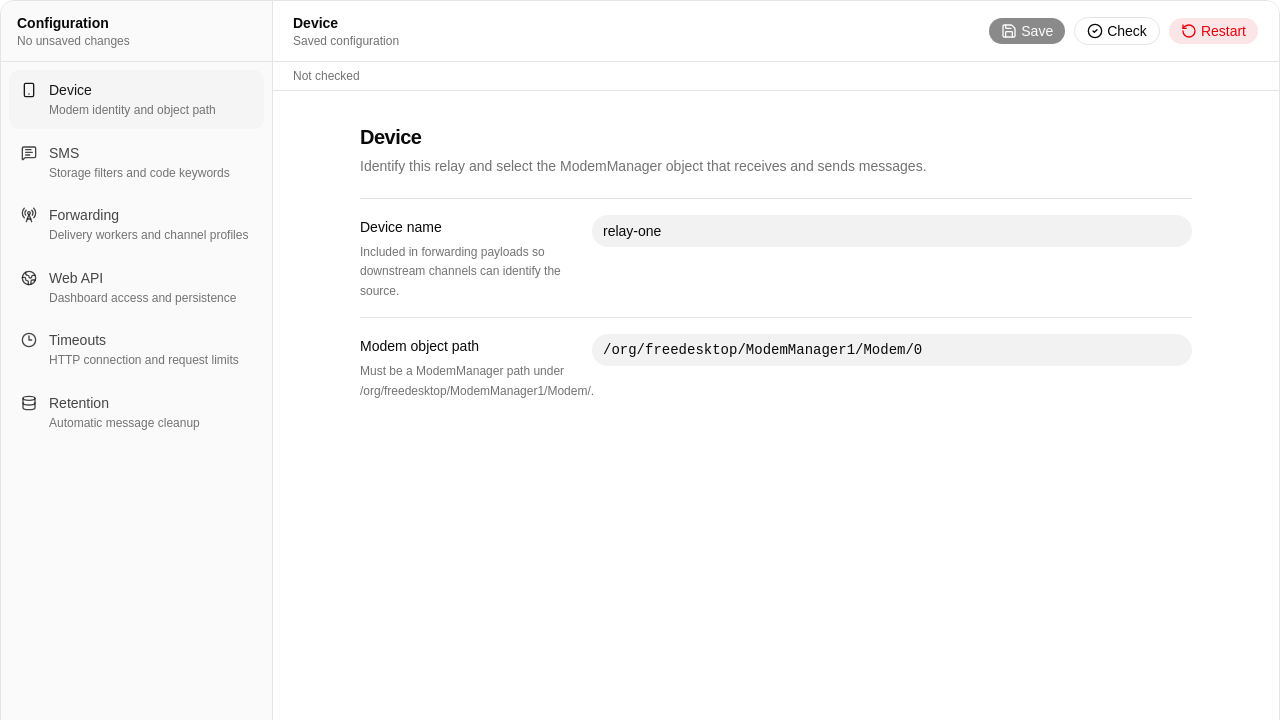
Test: ConfigEditor workspace › preserves one draft across categories and submits the complete candidate
Replace the text in the field labelled "Device name" with "relay-two" at point(892, 231), box x1=592 y1=215 x2=1192 y2=247
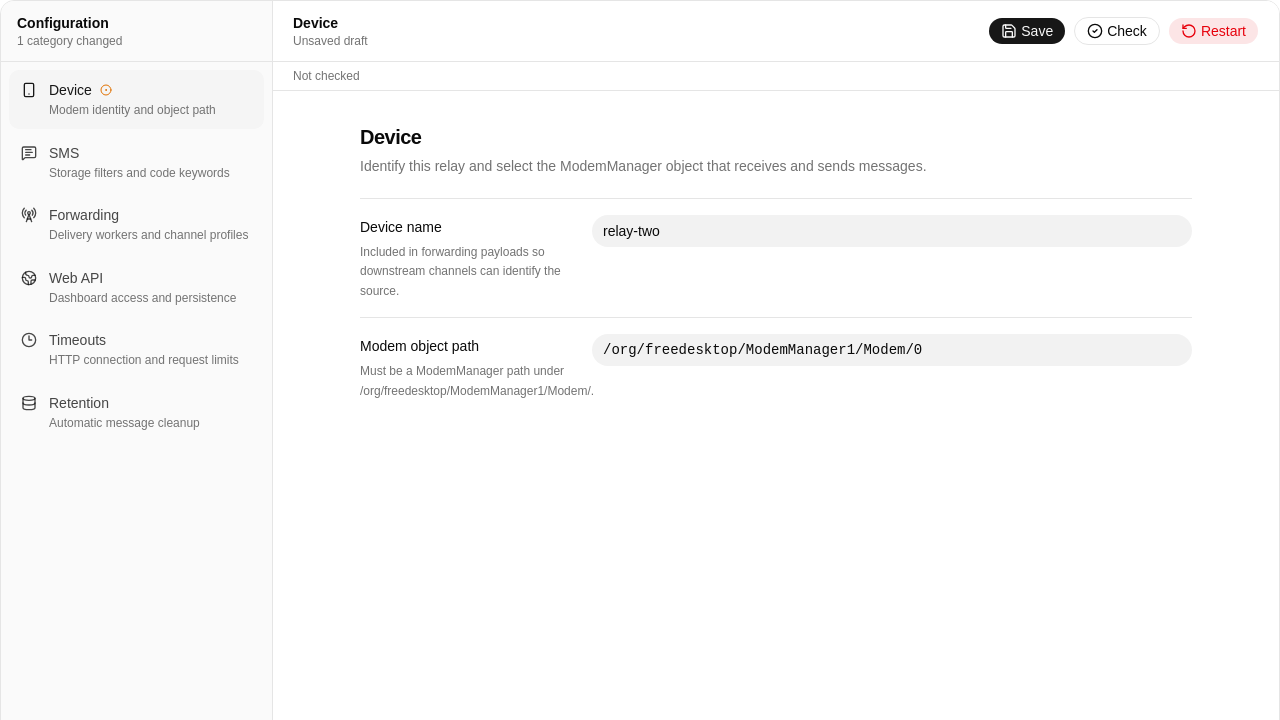
Click the button "SMS Storage filters and code keywords".
click(136, 162)  # box x1=9 y1=132 x2=264 y2=191
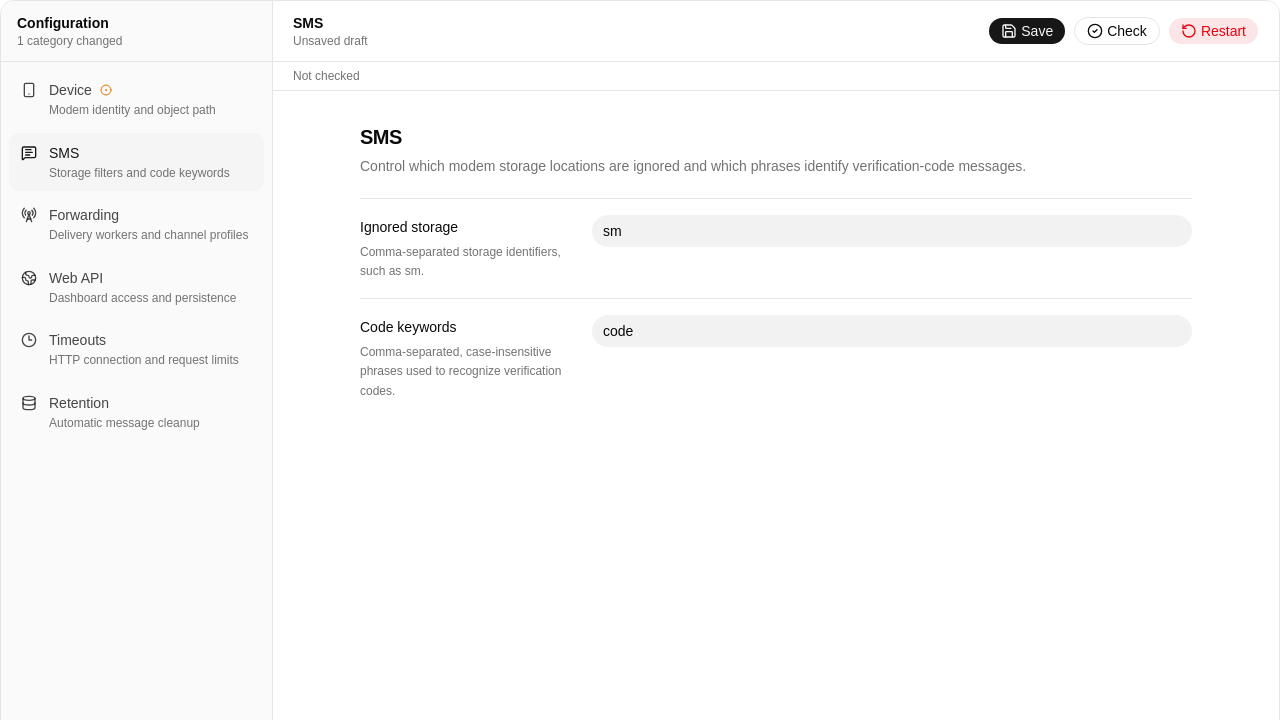
Replace the text in the field labelled "Code keywords" with "code, otp" at point(892, 331), box x1=592 y1=315 x2=1192 y2=347
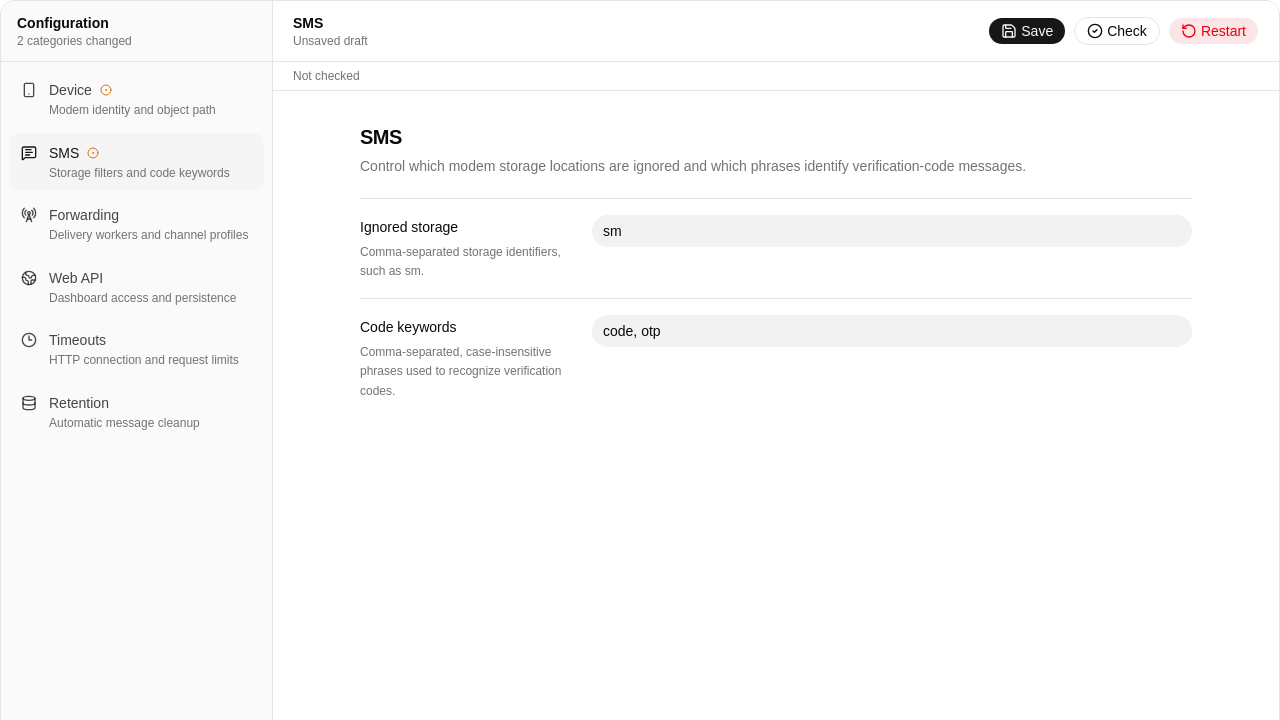
Result: the text "2 categories changed" is shown at x1=17 y1=33 x2=132 y2=49
Click the button "Device Modem identity and object path".
click(136, 99)  # box x1=9 y1=70 x2=264 y2=128
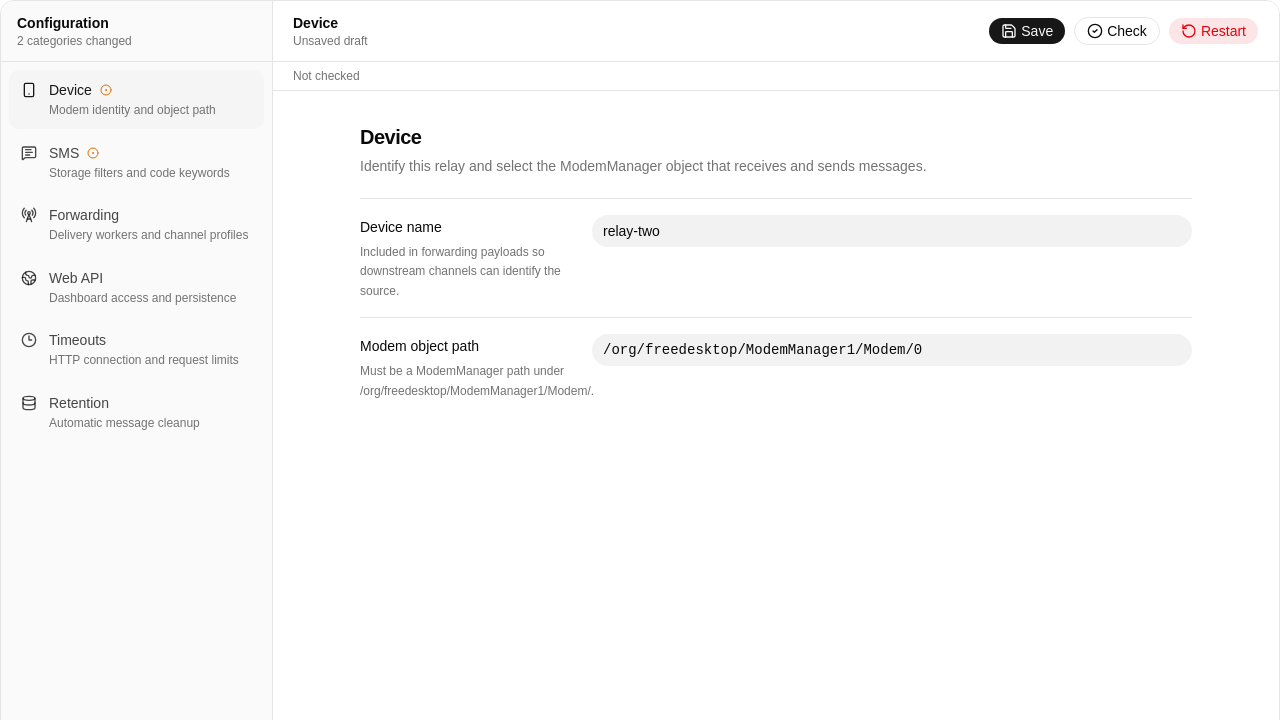
Result: the field labelled "Device name" holds "relay-two" at x1=592 y1=215 x2=1192 y2=247
Click the button "Check".
click(1117, 31)  # box x1=1074 y1=17 x2=1160 y2=45
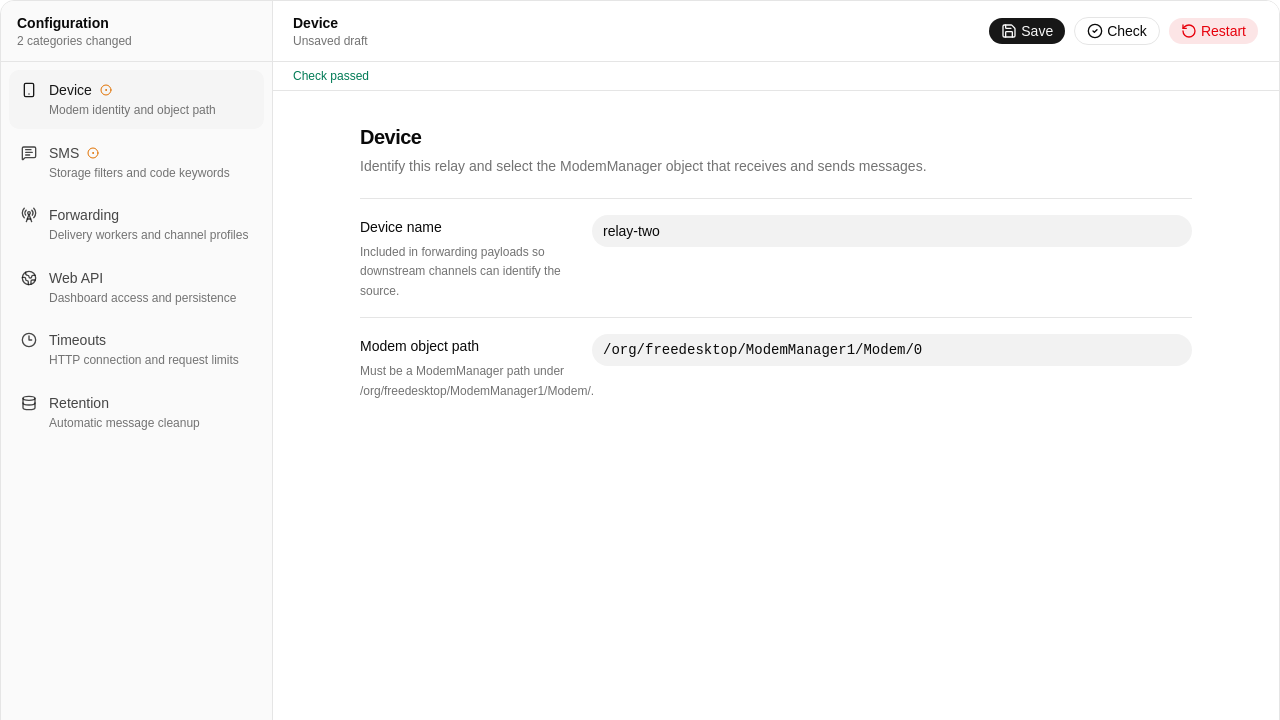
Result: the text "Check passed" is shown at x1=273 y1=61 x2=1279 y2=90
Replace the text in the field labelled "Device name" with "relay-three" at point(892, 231), box x1=592 y1=215 x2=1192 y2=247
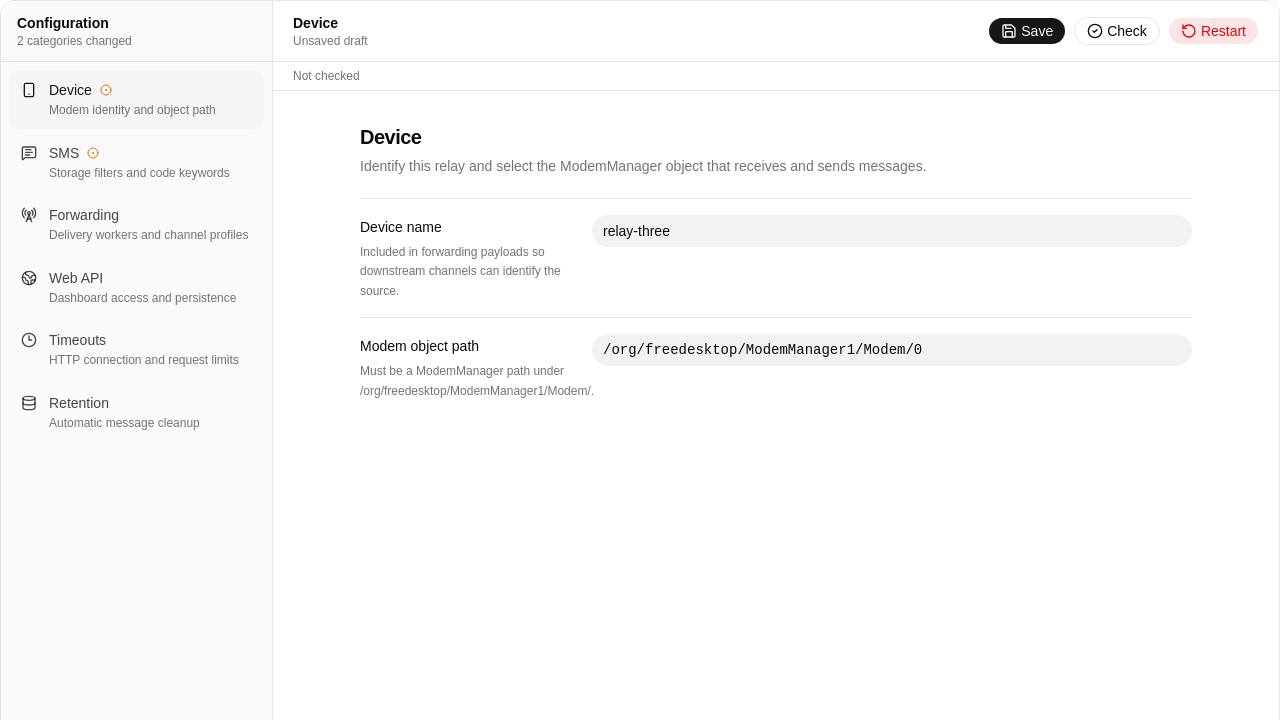
Result: the text "Not checked" is shown at x1=273 y1=61 x2=1279 y2=90
